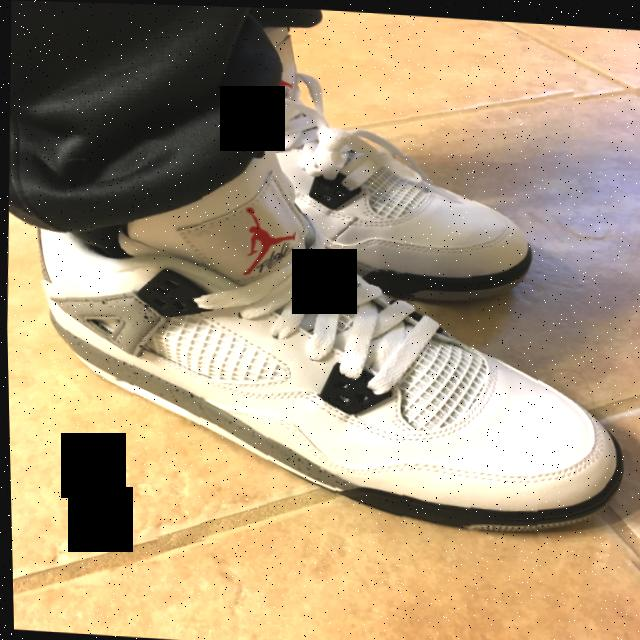shoe: (17, 131, 640, 567), (167, 54, 578, 328)
